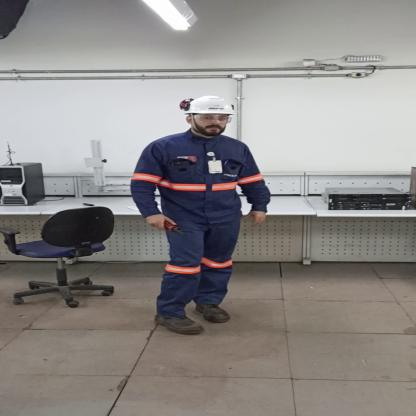Capacete: (183, 92, 236, 115)
